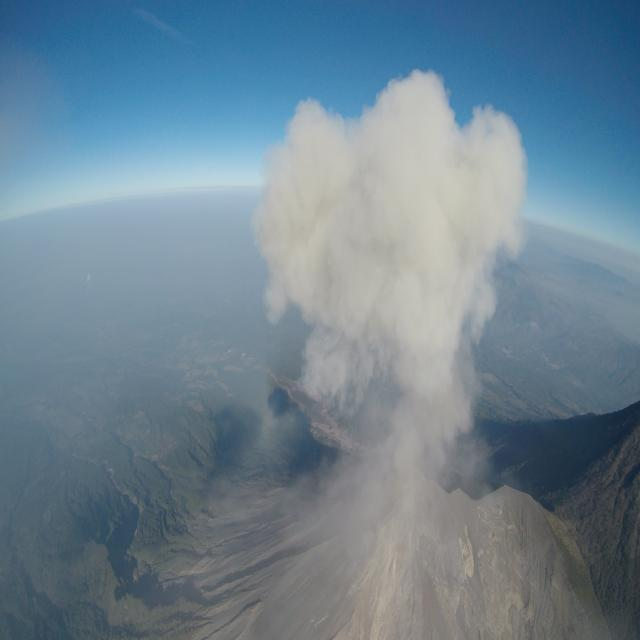Plume: (258, 64, 528, 424)
